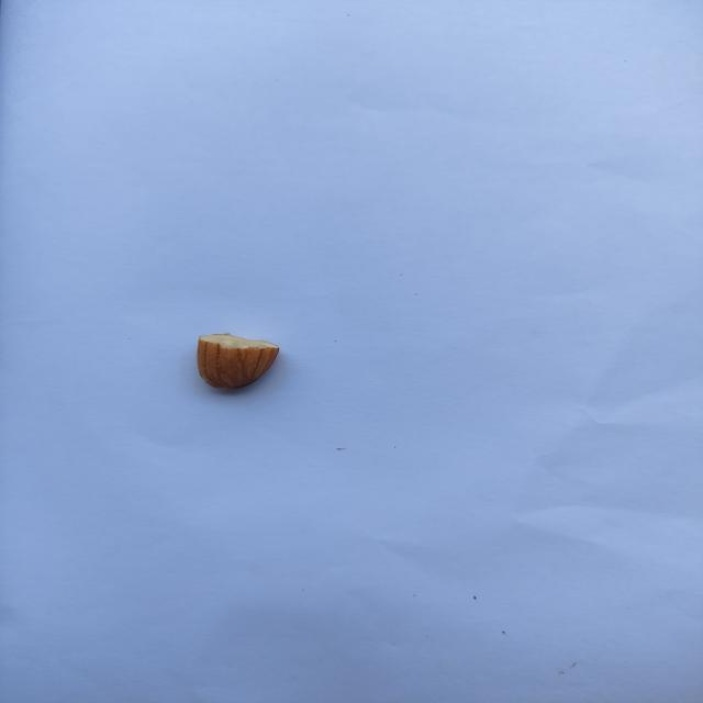grade4: (189, 329, 289, 397)
